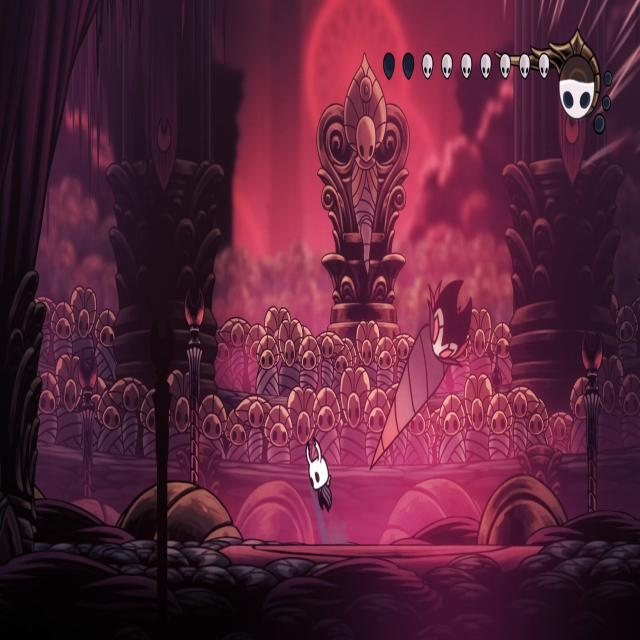Dive Dash: (366, 275, 474, 477)
Player: (305, 432, 336, 516)
